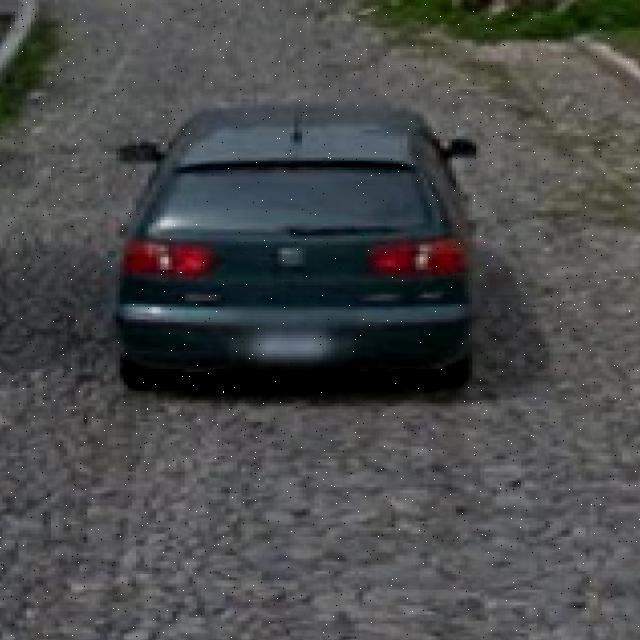car: (124, 112, 488, 398)
